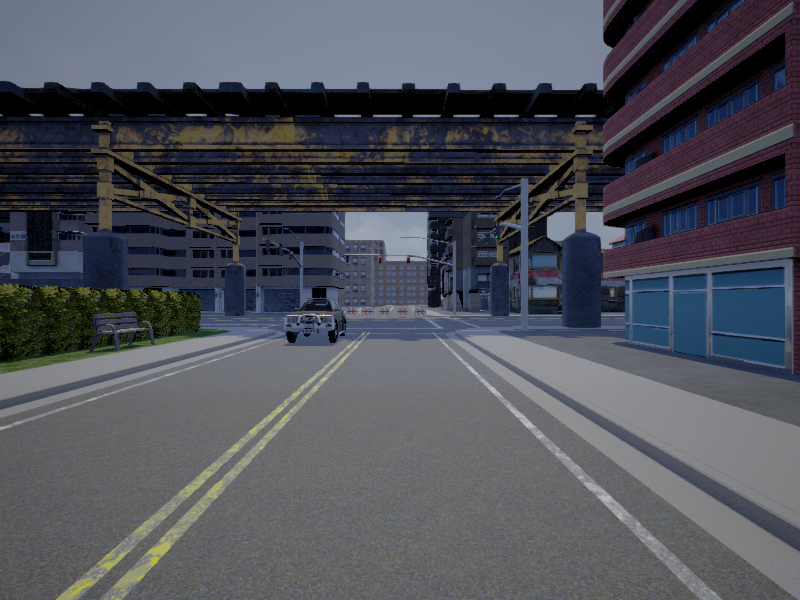Benign: (288, 299, 349, 345)
